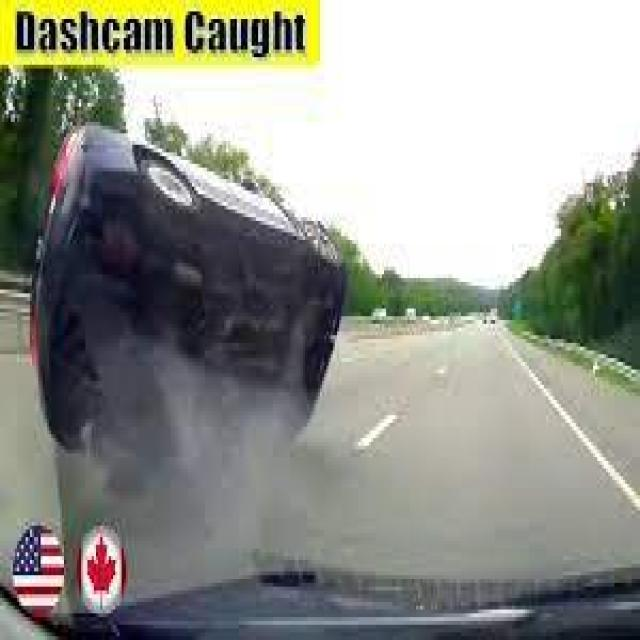severe: (25, 116, 350, 486)
